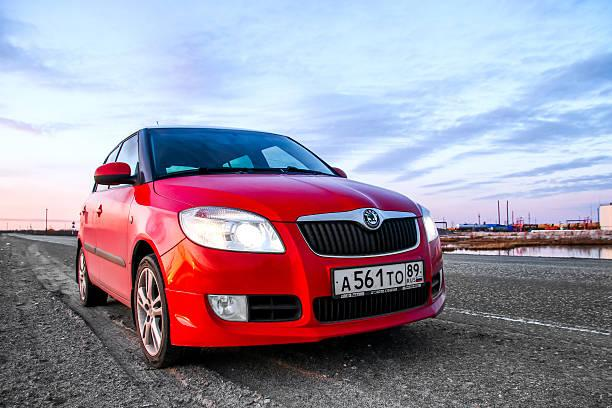skoda: (357, 207, 388, 230)
